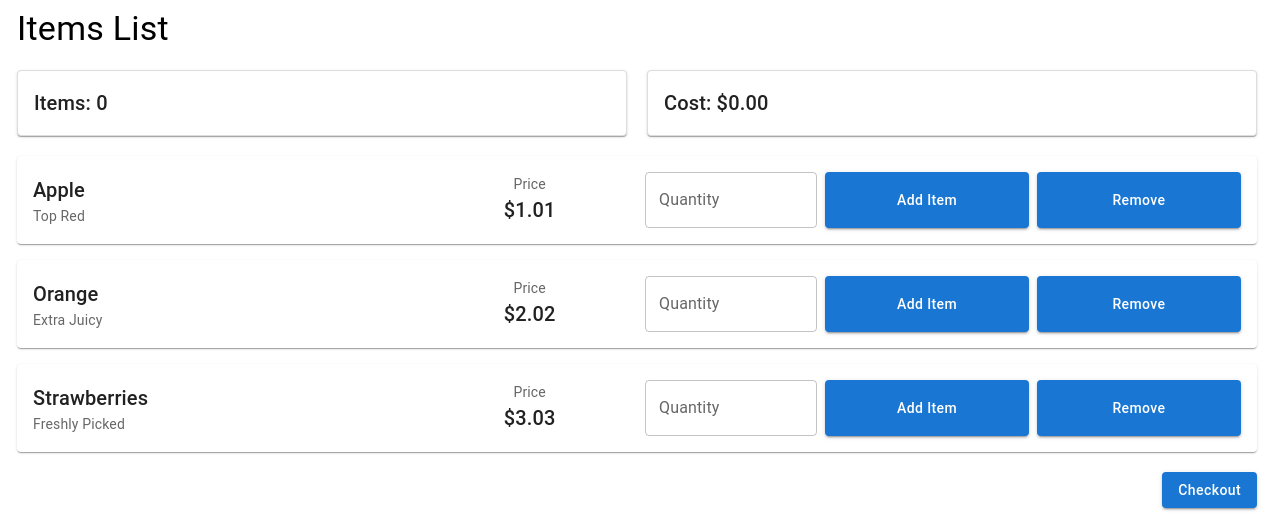
Test case: ItemList Component › adds the apple product to cart and updates the total
Type "2" into the number field labelled "Quantity" at (731, 200), box [645,172,817,228]
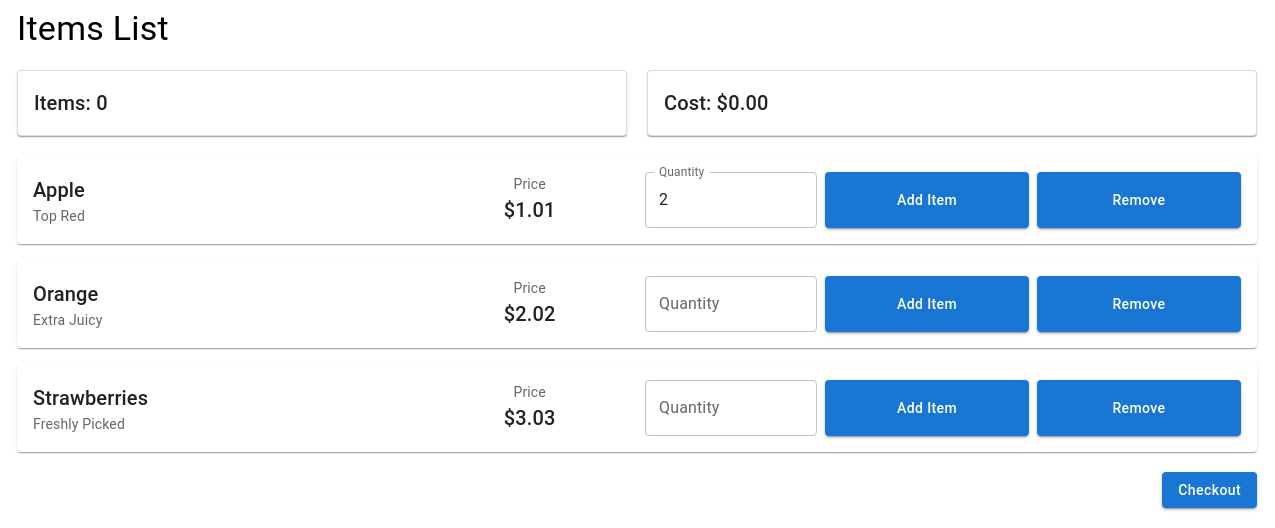
Click the button "Add item" in the row of "1.01" at (927, 200), box [825,172,1029,228]
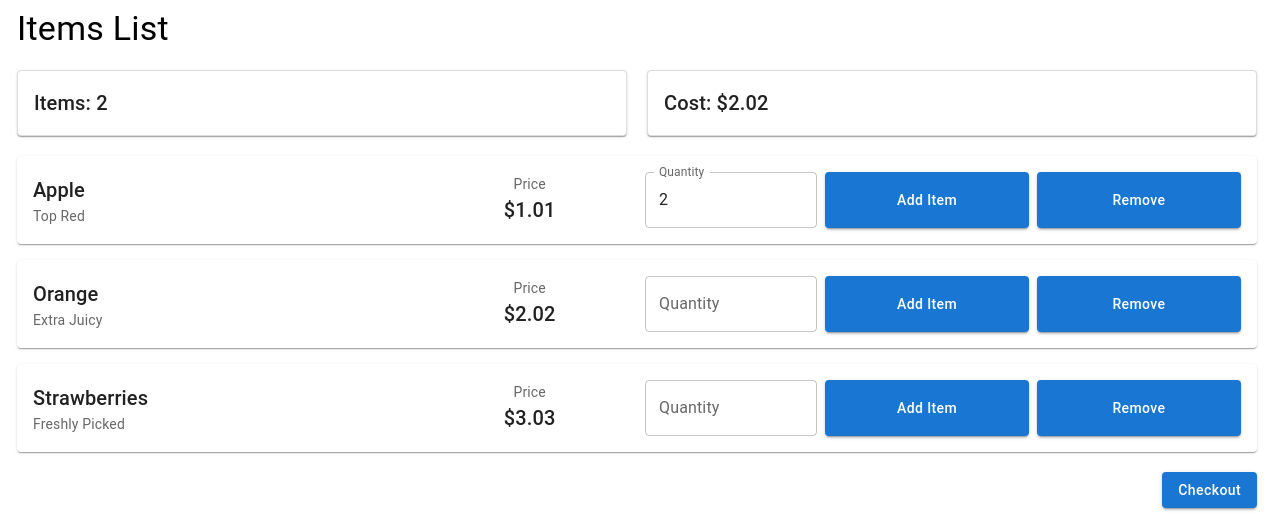
Check: the heading "Items: 2" is shown, box [34,87,108,119]
Check: the heading "Cost: $2.02" is shown, box [664,87,768,119]
